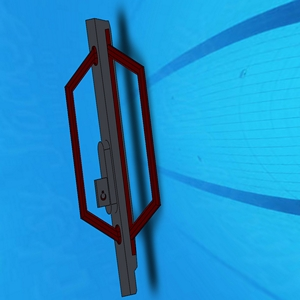submarine: (67, 20, 161, 300)
